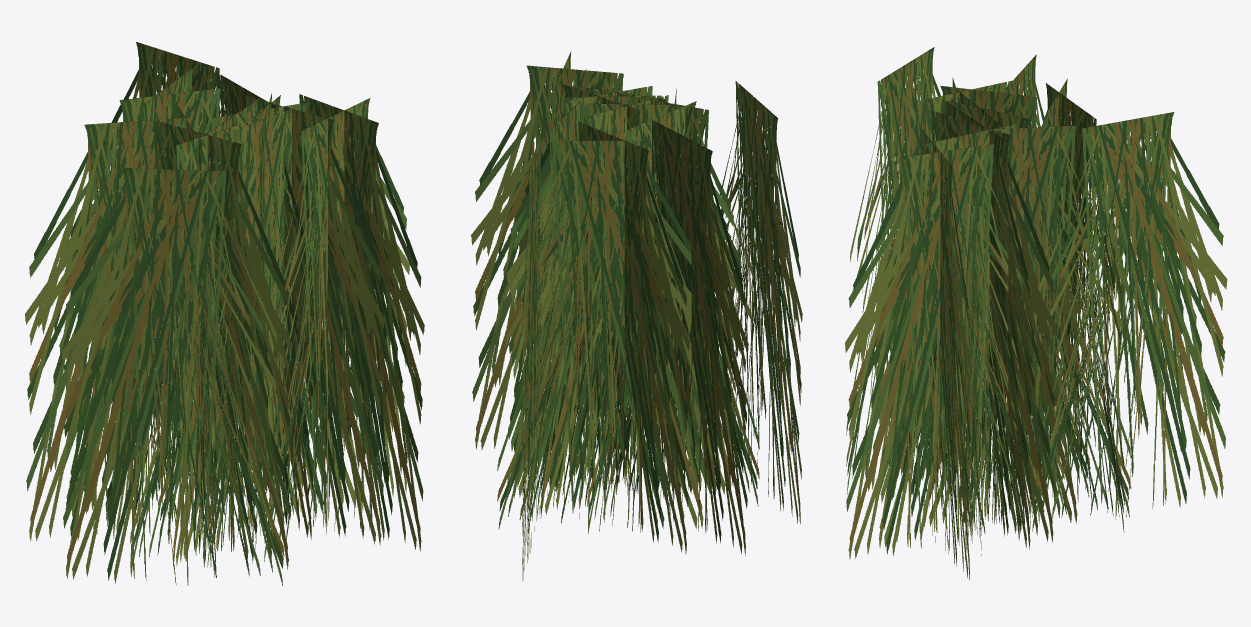
Rendered from grasbueschel_3.glb.
3 views of the same model, side by side, from view 1: azimuth 30°, elevation 25°; view 2: azimuth 150°, elevation 25°; view 3: azimuth 270°, elevation 25° (orthographic). The views are drawn at different scales.
Parts seen in each view (by area): view 1: grasbueschel_3_n1; view 2: grasbueschel_3_n1; view 3: grasbueschel_3_n1.
Boxes of the visible parts, x1,y1,x2,y2 form: grasbueschel_3_n1: (25, 42, 424, 586); grasbueschel_3_n1: (471, 51, 802, 580); grasbueschel_3_n1: (845, 47, 1227, 580).
Size of the model in its own units: 0.4788 by 0.5586 by 0.4754.
Materials: 1 (1 with a texture image).
